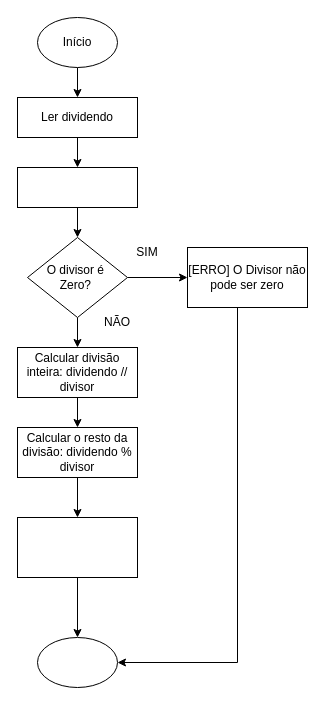
The diagram is 325 pixels wide and 705 high, and some of its shapes have lost their labels. Here are the shapes that lost their labels. From the top down, the centre of each, then its label:
(77,187): Ler divisor
(77,547): Mostra o resultado da divisão inteira e resto
(77,662): Fim
